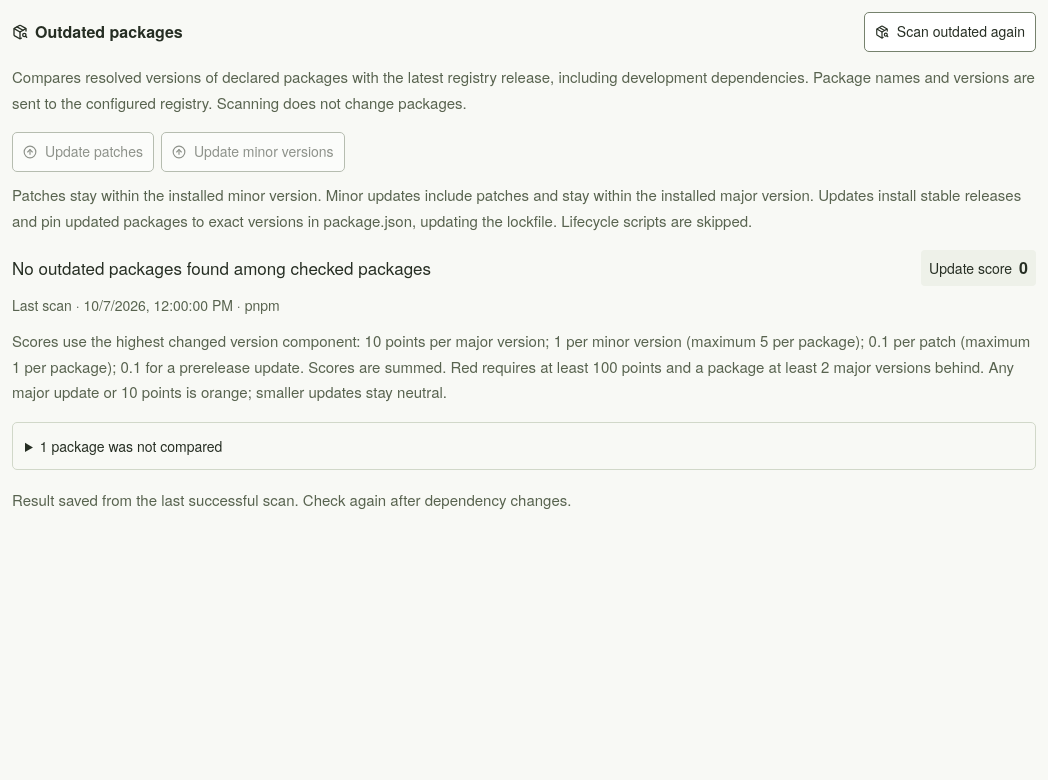
outdated package details › does not describe skipped packages as current and shows why they were skipped
This screenshot has width=1048, height=780.
Check: the message shows "No outdated packages found among checked packages", box [12,255,431,280]
Click the heading "1 package was not compared".
click(131, 446)  # box [40,436,222,456]
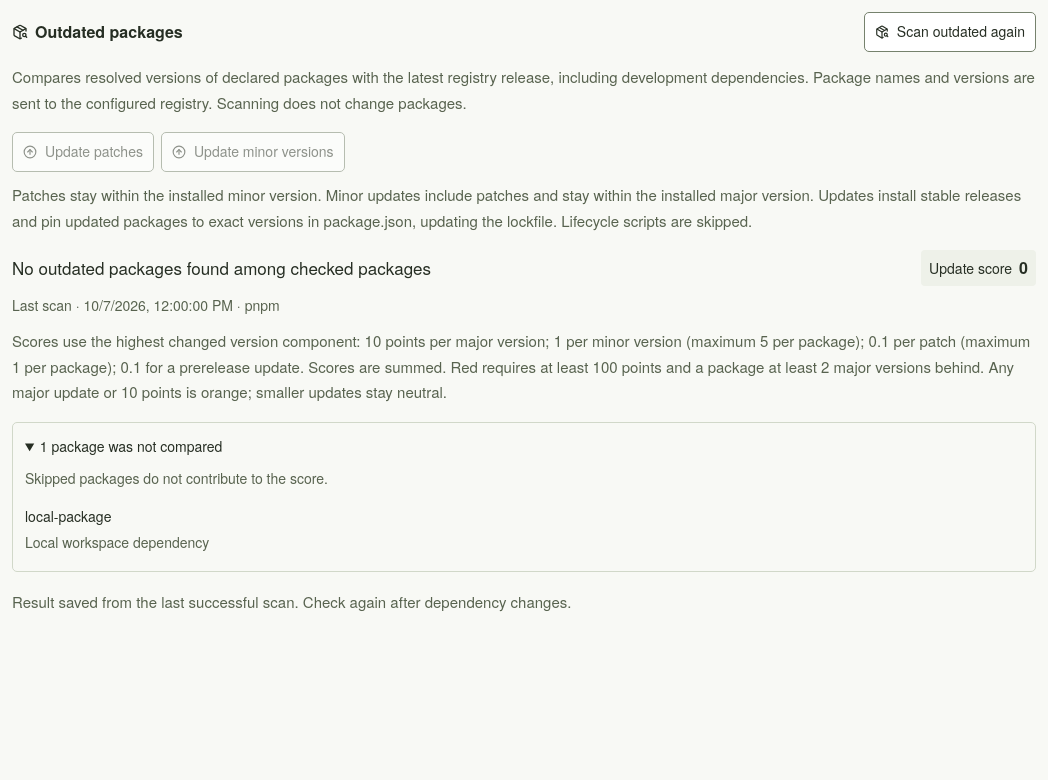
Check: the text "Skipped packages do not contribute to the score." is shown, box [25,468,328,488]
Check: the text "local-package" is shown, box [25,506,111,526]
Check: the text "Local workspace dependency" is shown, box [25,532,209,552]
